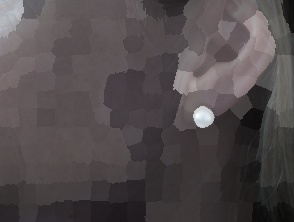vitiligo: (54, 0, 276, 222)
